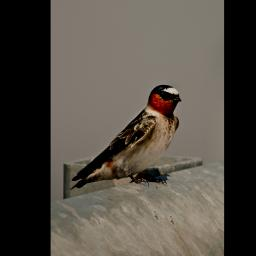Swallow: (69, 82, 183, 190)
